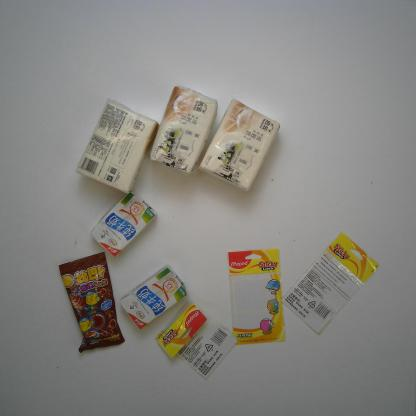Candy: (57, 250, 127, 354)
Milk: (118, 263, 189, 330), (90, 190, 159, 258)
Stationery: (278, 232, 381, 337), (155, 298, 240, 383), (227, 246, 287, 346)
Tissue: (74, 98, 159, 200), (198, 97, 284, 197), (149, 81, 219, 174)
